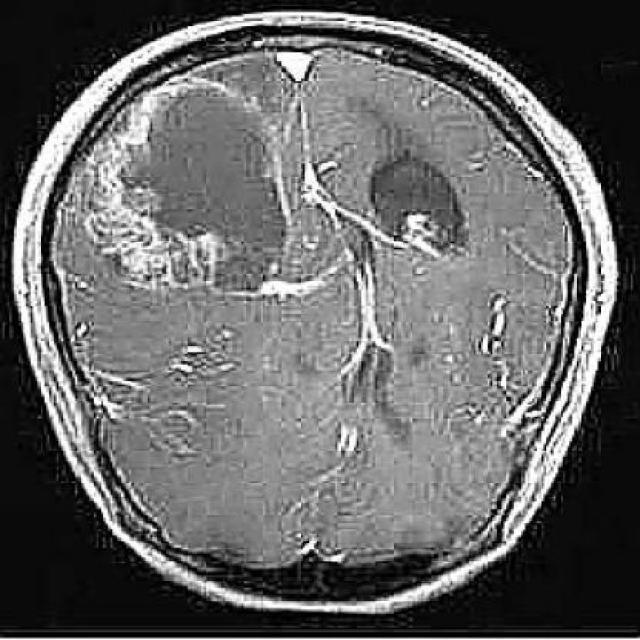Brain-Tumor: (79, 68, 300, 306), (358, 140, 482, 276)
